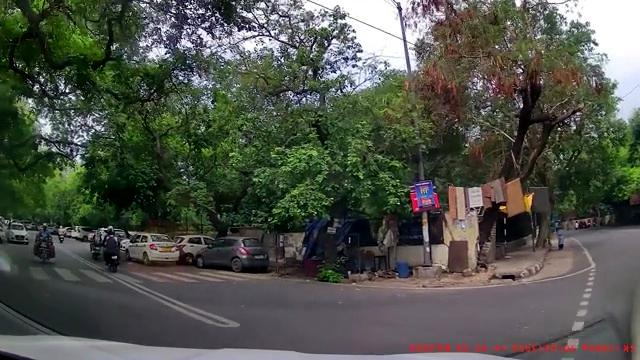motorcycle_with_helmet: (102, 225, 123, 273), (32, 223, 57, 263)
